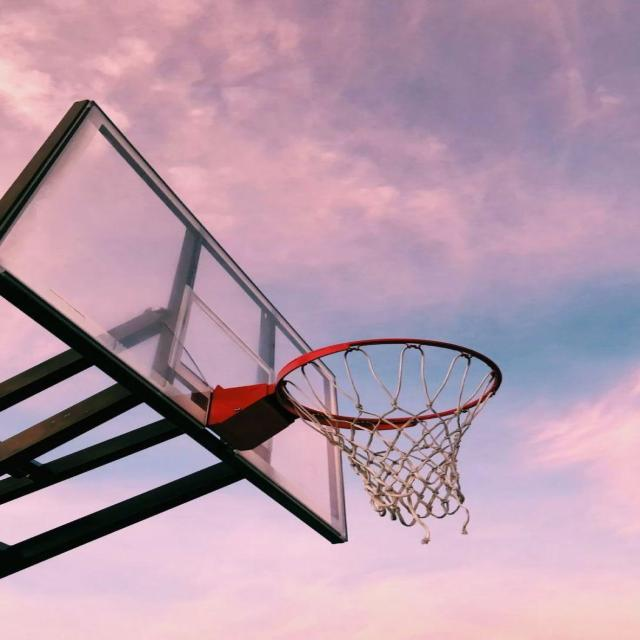hoop: (267, 333, 531, 541)
